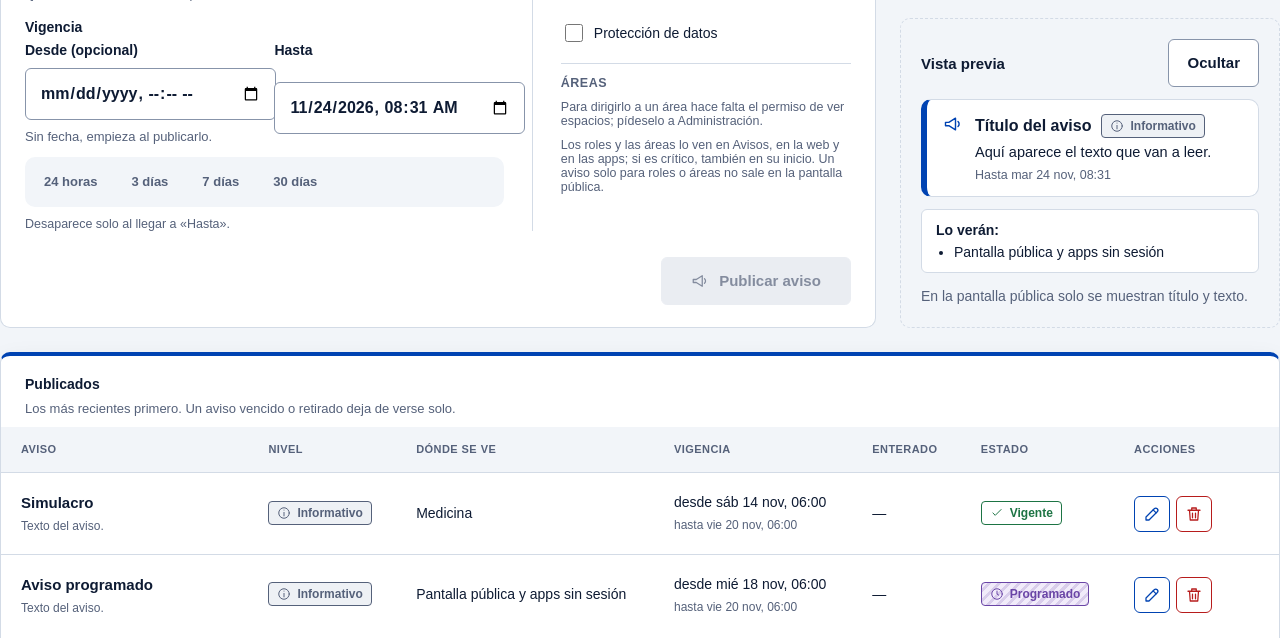
Test: MA-AVI-02 · editar y retirar avisos en la web › si otra persona lo cambió, ofrece recargar en lugar de pisarlo
The width and height of the screenshot is (1280, 638).
(page scrolled)
Step 1. Click the button named "Editar" in the row of "Simulacro" → (1152, 514), box [1134,496,1170,532]
(page scrolled)
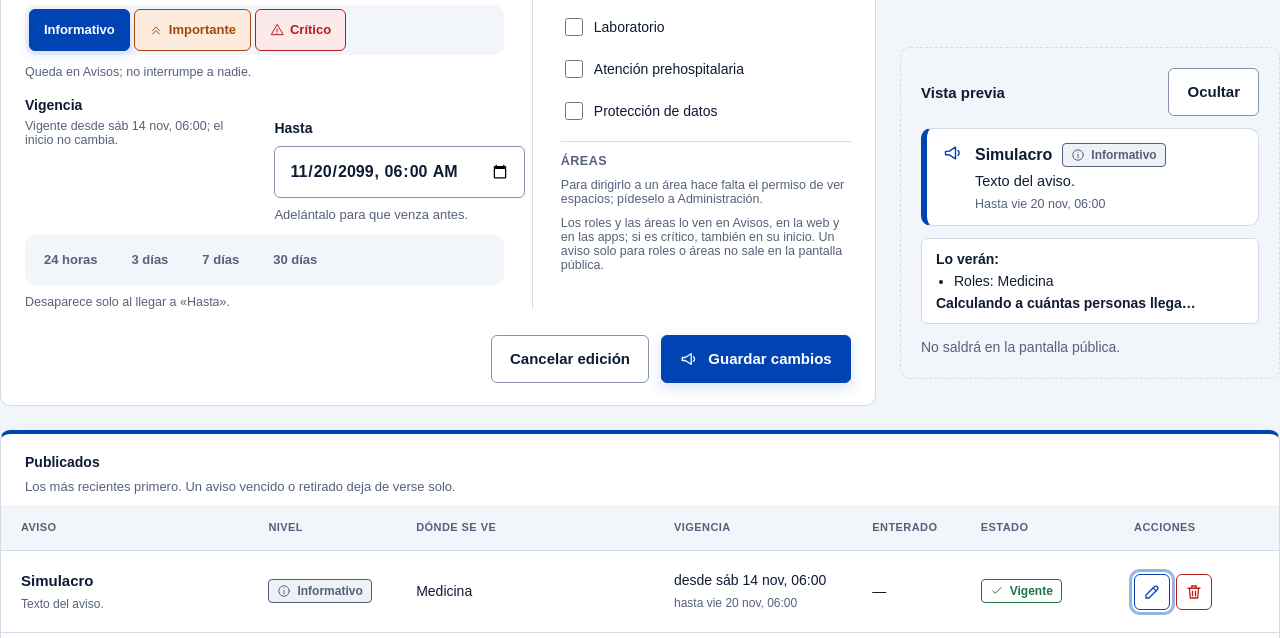
Step 2. Click the button "Guardar cambios" → (756, 359), box [661,335,851,383]
(page scrolled)
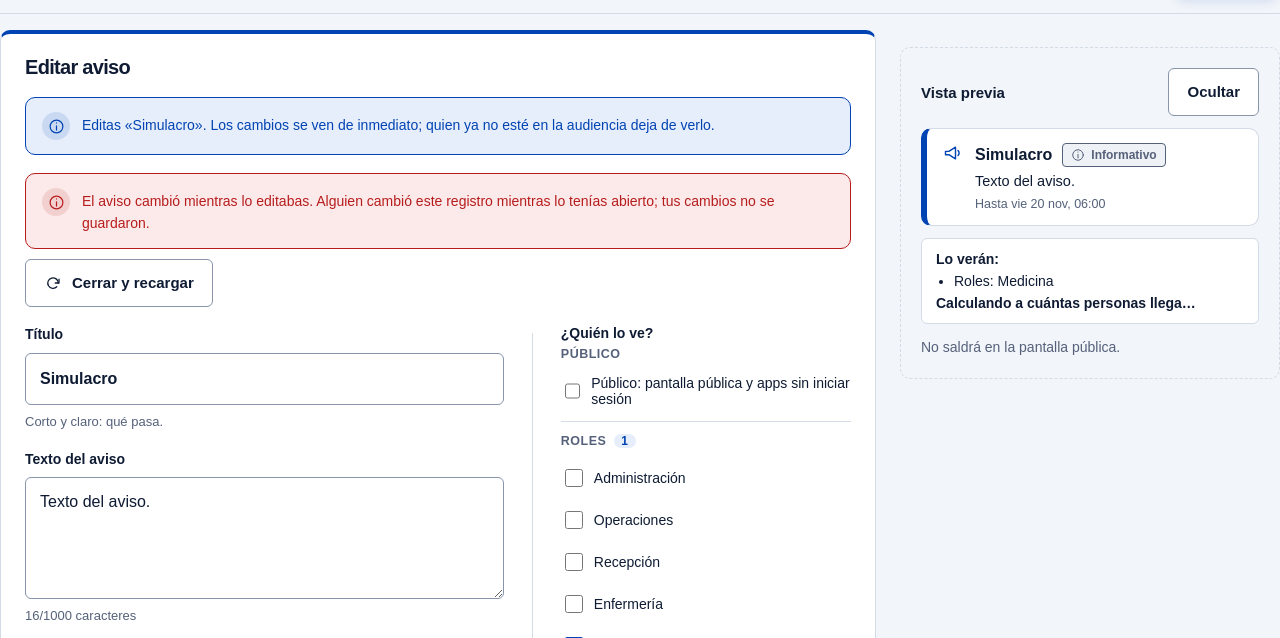
Check: the button "Cerrar y recargar" is shown, box [25,259,213,307]
